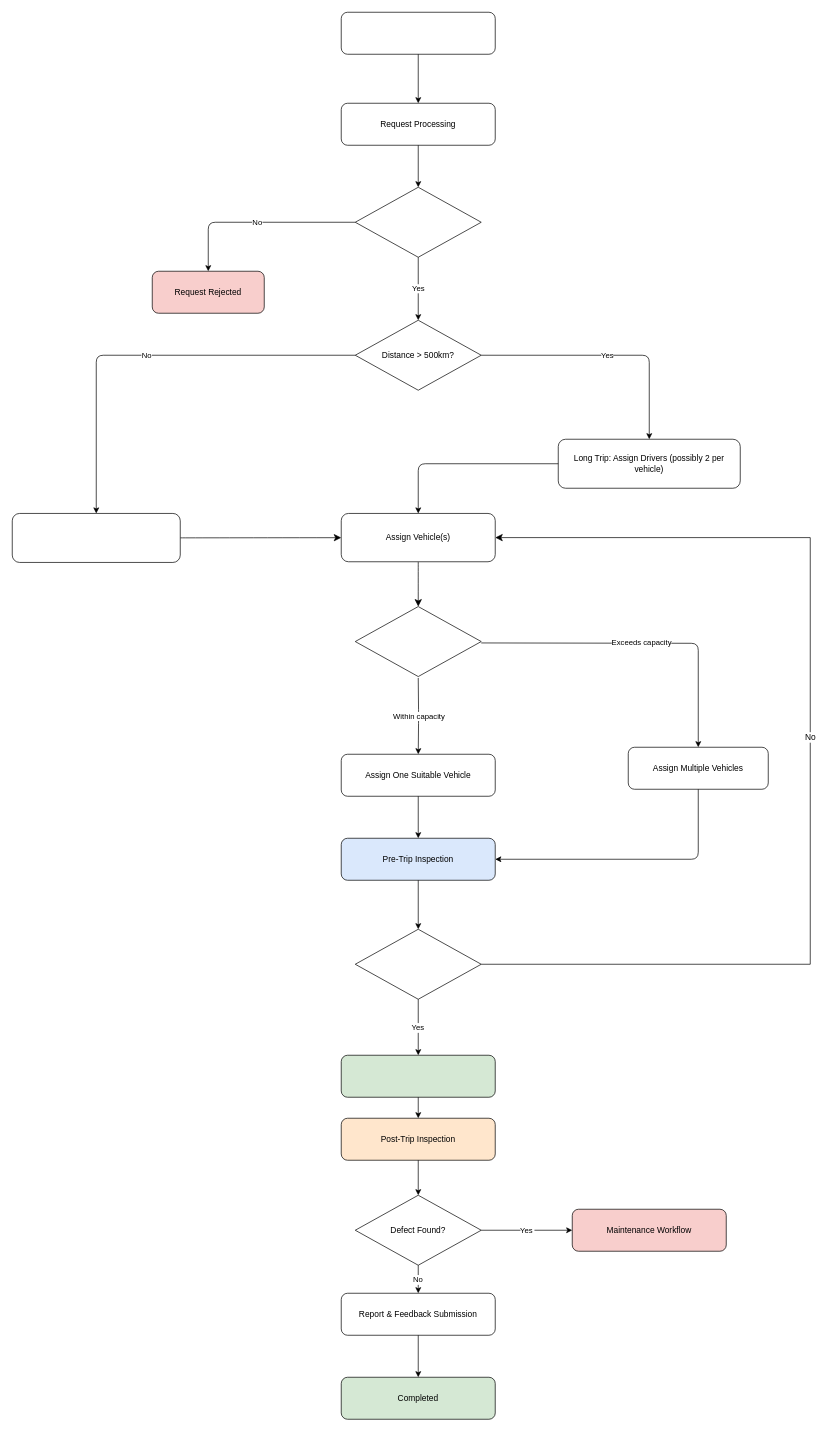
Some shapes in this 830 by 1432 pixel diagram are drawn without their labels. Each missing label, with the centre of its shape:
"Inspection Passed?" goes at pixel 418 964.
"Passenger Capacity Check" goes at pixel 418 641.
"Request Approved?" goes at pixel 418 222.
"Short Trip: Assign Suitable Driver" goes at pixel 96 537.
"Submit Transportation Request" goes at pixel 418 33.
"Transportation In Progress" goes at pixel 418 1076.
